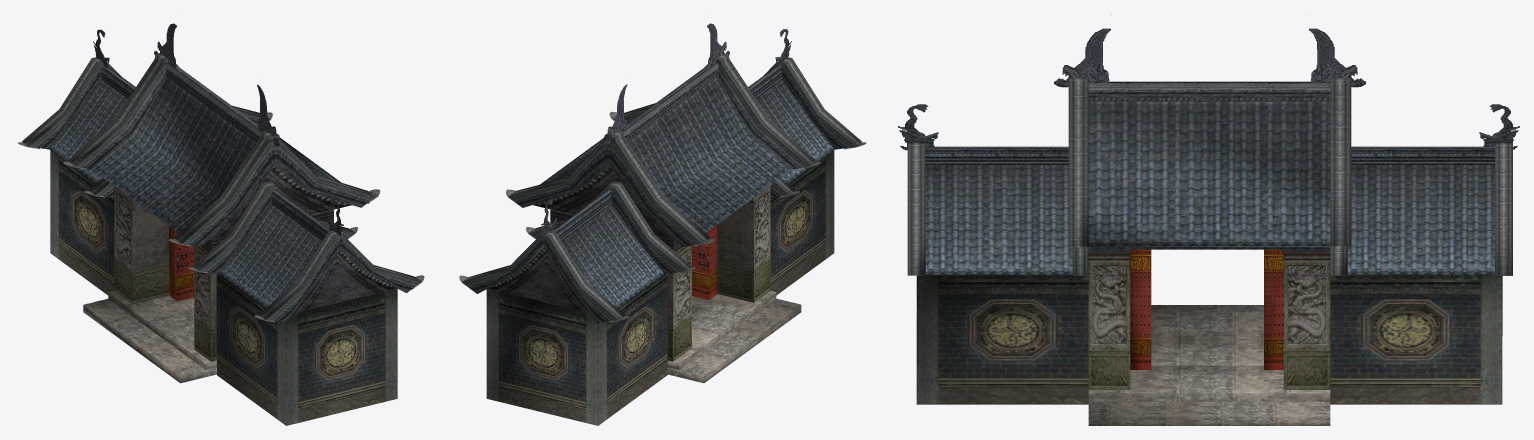
The model's file is cj_mili_door.glb.
The picture shows the model from 3 angles, left to right: view 1: azimuth 30°, elevation 25°; view 2: azimuth 150°, elevation 25°; view 3: azimuth 270°, elevation 25°; orthographic projection. The views are drawn at different scales.
Visible parts, largest first — view 1: CJ_mili_door_wall, CJ_mili_door_roof, CJ_mili_door_roofside, CJ_mili_door_wallside, CJ_mili_door01, CJ_mili_door_roofal, CJ_mili_fence_al; view 2: CJ_mili_door_wall, CJ_mili_door_roof, CJ_mili_door_roofside, CJ_mili_door_wallside, CJ_mili_door01, CJ_mili_door_roofal, CJ_mili_fence_al; view 3: CJ_mili_door_roof, CJ_mili_door_wall, CJ_mili_door_roofside, CJ_mili_door01, CJ_mili_door_roofal, CJ_mili_fence_al.
Boxes of the visible parts, x1,y1,x2,y2 form: CJ_mili_door_wall: [50, 150, 397, 425]; CJ_mili_door_roof: [29, 59, 421, 322]; CJ_mili_door_roofside: [22, 53, 421, 319]; CJ_mili_door_wallside: [132, 200, 333, 361]; CJ_mili_door01: [169, 226, 194, 301]; CJ_mili_door_roofal: [18, 23, 424, 322]; CJ_mili_fence_al: [93, 29, 343, 241]; CJ_mili_door_wall: [486, 150, 834, 425]; CJ_mili_door_roof: [462, 59, 854, 322]; CJ_mili_door_roofside: [462, 53, 861, 319]; CJ_mili_door_wallside: [550, 198, 753, 361]; CJ_mili_door01: [692, 224, 717, 299]; CJ_mili_door_roofal: [459, 23, 866, 322]; CJ_mili_fence_al: [541, 29, 791, 241]; CJ_mili_door_roof: [925, 81, 1494, 275]; CJ_mili_door_wall: [916, 249, 1502, 425]; CJ_mili_door_roofside: [907, 76, 1512, 275]; CJ_mili_door01: [1130, 249, 1283, 369]; CJ_mili_door_roofal: [908, 14, 1512, 275]; CJ_mili_fence_al: [898, 104, 1519, 150].
Size of the model in its own units: 10.36 by 13.4 by 21.41.
Materials: 7 (7 with a texture image).
